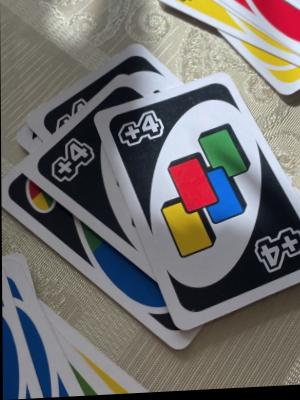colour: (6, 166, 67, 227)
wild-4: (48, 133, 101, 190), (115, 108, 168, 153)
